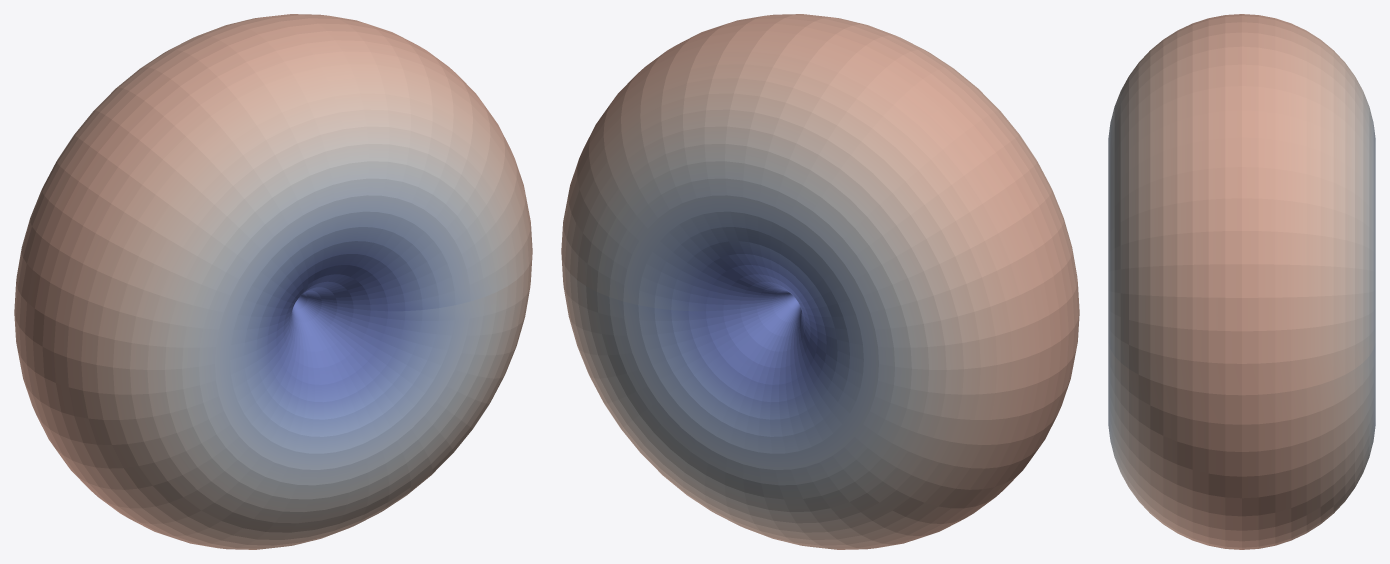
The picture shows the model from 3 angles, left to right: view 1: azimuth 30°, elevation 25°; view 2: azimuth 150°, elevation 25°; view 3: azimuth 270°, elevation 25°; orthographic projection. The views are drawn at different scales.
Visible parts, largest first — view 1: world; view 2: world; view 3: world.
Part boxes in pixels (x1,y1,x2,y2): world: [14, 14, 532, 549]; world: [561, 14, 1079, 549]; world: [1108, 14, 1375, 549].
Size of the model in its own units: 20 by 19.96 by 9.98.
